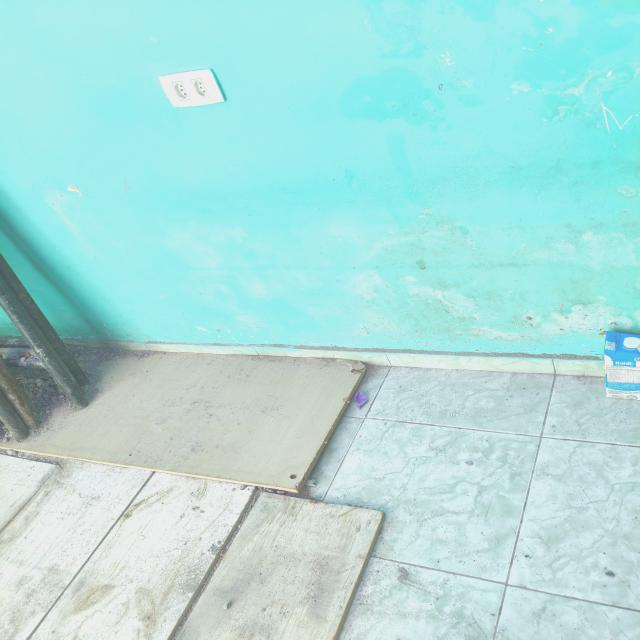Caixa de Leite: (597, 330, 640, 399)
